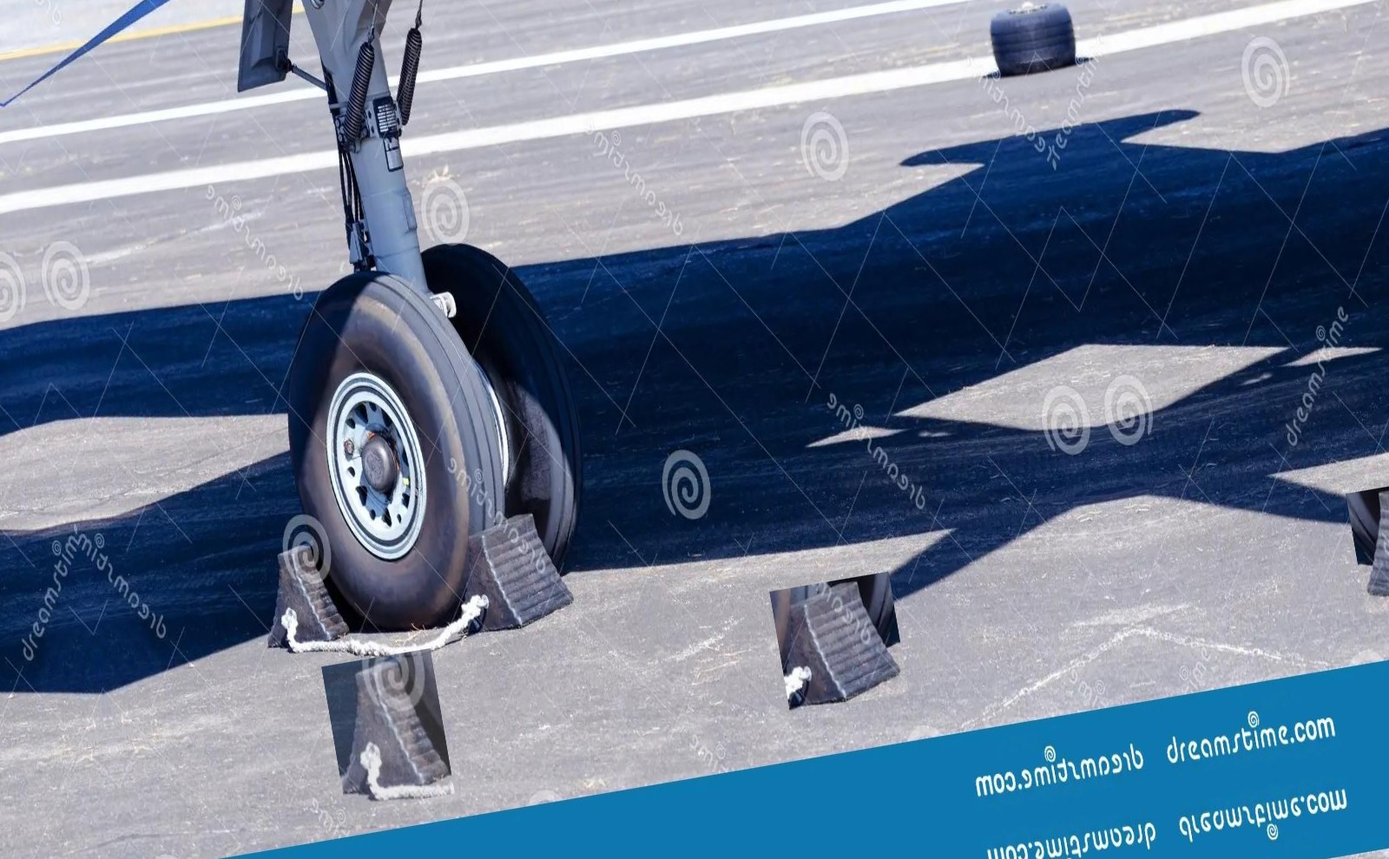chock: (321, 648, 455, 812), (769, 571, 909, 713), (448, 504, 582, 641), (251, 535, 354, 662), (1346, 473, 1389, 615)
wheel: (263, 252, 528, 641), (414, 223, 606, 592), (985, 4, 1039, 81), (1028, 0, 1082, 73)
